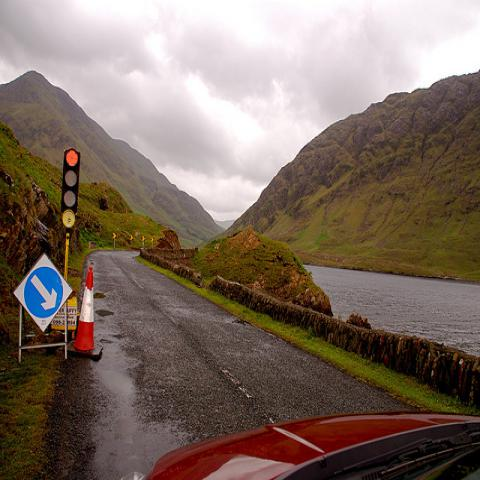car: (148, 410, 480, 476)
